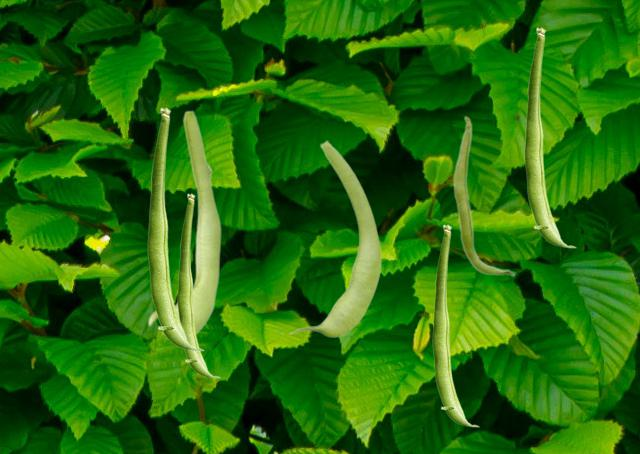french_bean: (288, 139, 381, 336), (147, 109, 220, 335), (147, 107, 204, 350), (524, 27, 576, 247), (452, 115, 515, 276), (432, 224, 479, 426), (177, 193, 220, 377)
